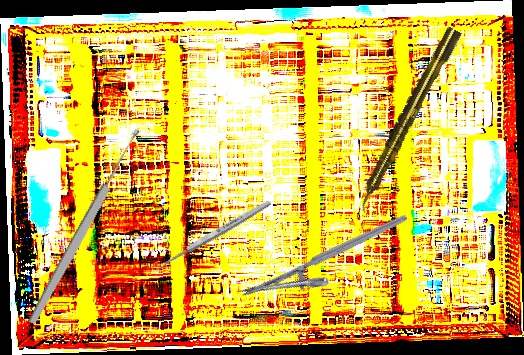Handpiece: (351, 25, 464, 214)
Needle Holder: (239, 213, 419, 320)
Surgical Spoon: (25, 127, 145, 326), (150, 198, 273, 274)
